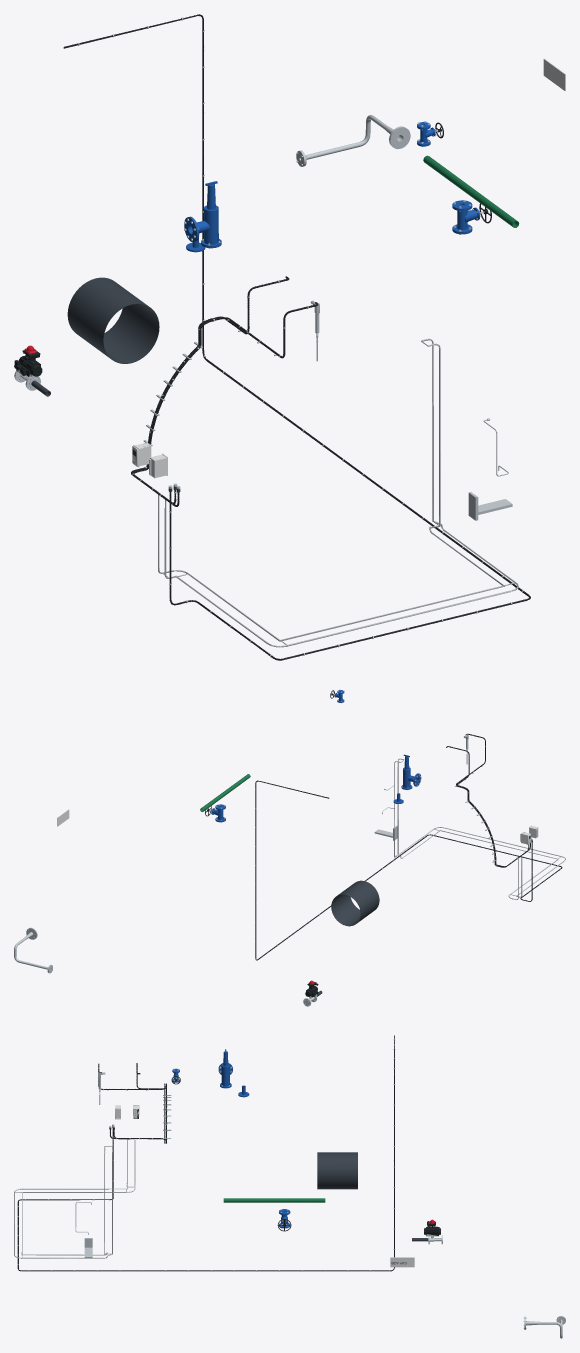
File: s4000-6-CfnXvVCi.glb
3 renders of one model, top to bottom at view 1: azimuth 30°, elevation 25°; view 2: azimuth 150°, elevation 25°; view 3: azimuth 270°, elevation 25°, orthographic. The views are drawn at different scales.
Parts seen in each view (by area): view 1: flue_spacer / dark, cables / zinc, mod_direct_drive_cable / black, safety_1 / blue, fv_to_trap_gap / steel, pump_delivery / green, wiring_low_level_1 / black, bcv7432 / bcv7432_0.npz, wiring_high_level / black; view 2: flue_spacer / dark, mod_direct_drive_cable / black, cables / zinc; view 3: flue_spacer / dark, mod_direct_drive_cable / black, cables / zinc, pump_delivery / green.
Part boxes in pixels (x1,y1,x2,y2): flue_spacer / dark: [67, 277, 159, 363]; cables / zinc: [158, 338, 518, 647]; mod_direct_drive_cable / black: [63, 14, 530, 660]; safety_1 / blue: [184, 181, 221, 248]; fv_to_trap_gap / steel: [296, 115, 410, 166]; pump_delivery / green: [423, 155, 519, 227]; wiring_low_level_1 / black: [133, 302, 318, 506]; bcv7432 / bcv7432_0.npz: [14, 345, 42, 390]; wiring_high_level / black: [131, 276, 289, 504]; flue_spacer / dark: [331, 880, 379, 926]; mod_direct_drive_cable / black: [255, 780, 562, 960]; cables / zinc: [394, 758, 565, 899]; flue_spacer / dark: [317, 1152, 357, 1189]; mod_direct_drive_cable / black: [17, 1035, 394, 1271]; cables / zinc: [14, 1139, 135, 1258]; pump_delivery / green: [223, 1198, 325, 1202].
Bounding box in the file's own units: 5.3 × 3 × 6.78.
